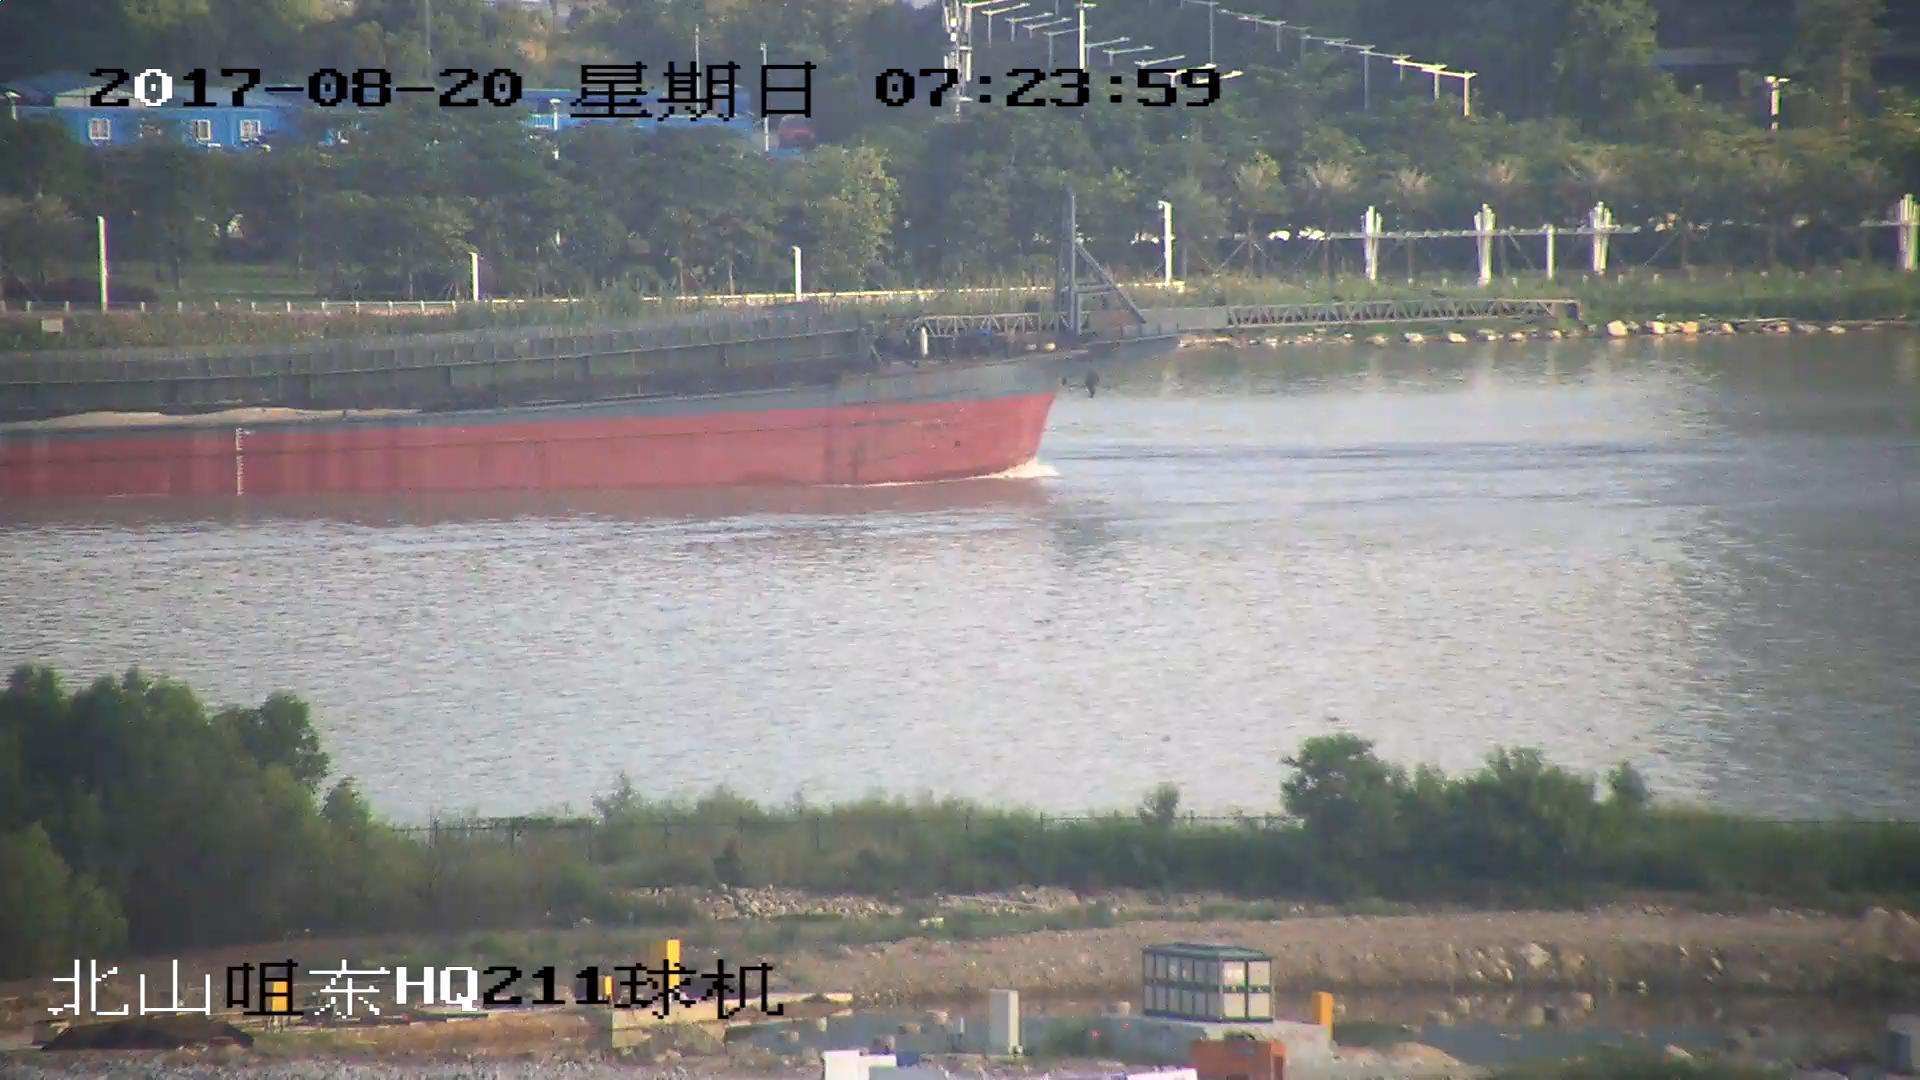Ship: (3, 181, 1560, 502)
